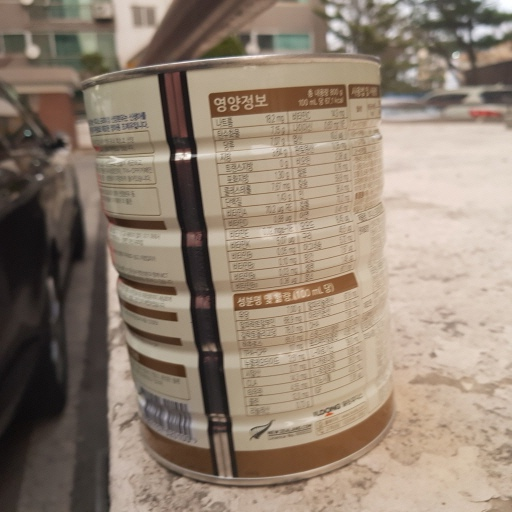Metal_1: (80, 51, 399, 486)
